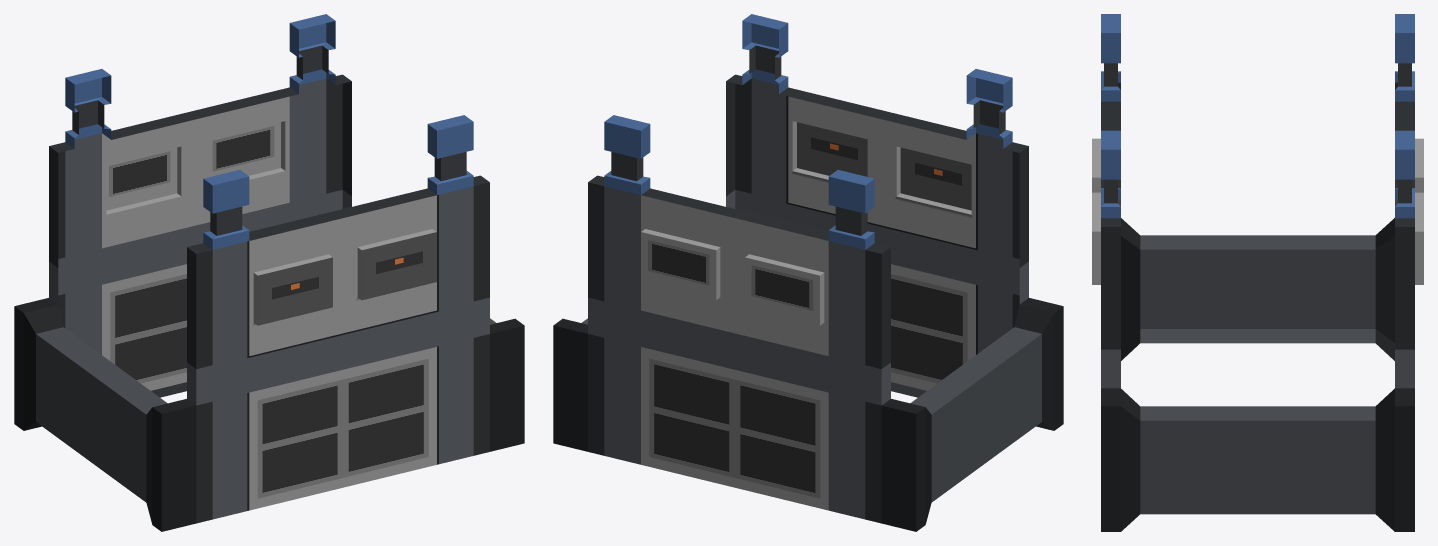
The model's file is NPC_BodyArmour.fbx.
3 renders of one model, left to right at view 1: azimuth 30°, elevation 25°; view 2: azimuth 150°, elevation 25°; view 3: azimuth 270°, elevation 25°, orthographic. The views are drawn at different scales.
Parts seen in each view (by area): view 1: NPC_BodyArmour; view 2: NPC_BodyArmour; view 3: NPC_BodyArmour.
Part boxes in pixels (<box>): NPC_BodyArmour: <box>14,14,524,531</box>; NPC_BodyArmour: <box>553,14,1063,531</box>; NPC_BodyArmour: <box>1092,14,1423,531</box>.
Bounding box in the file's own units: 93.21 × 82 × 69.32.
